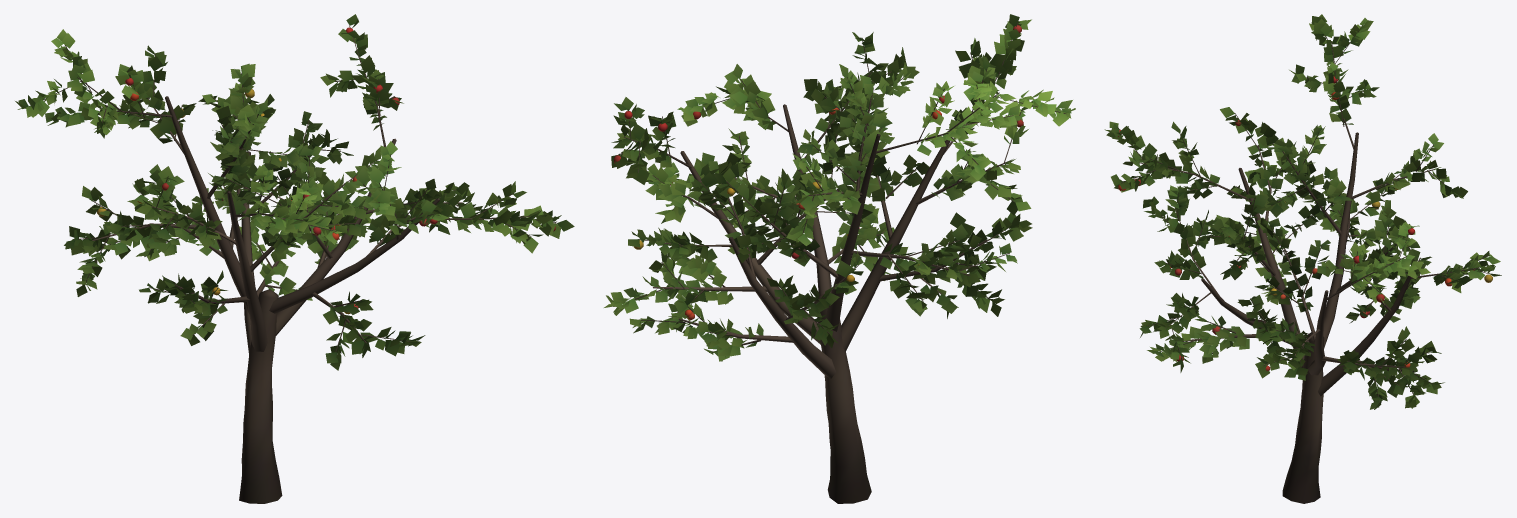
File: apple-a.lod0.glb
The picture shows the model from 3 angles, left to right: view 1: azimuth 30°, elevation 25°; view 2: azimuth 150°, elevation 25°; view 3: azimuth 270°, elevation 25°; orthographic projection. The views are drawn at different scales.
Bounding box in the file's own units: 5.12 × 4.93 × 4.33.
